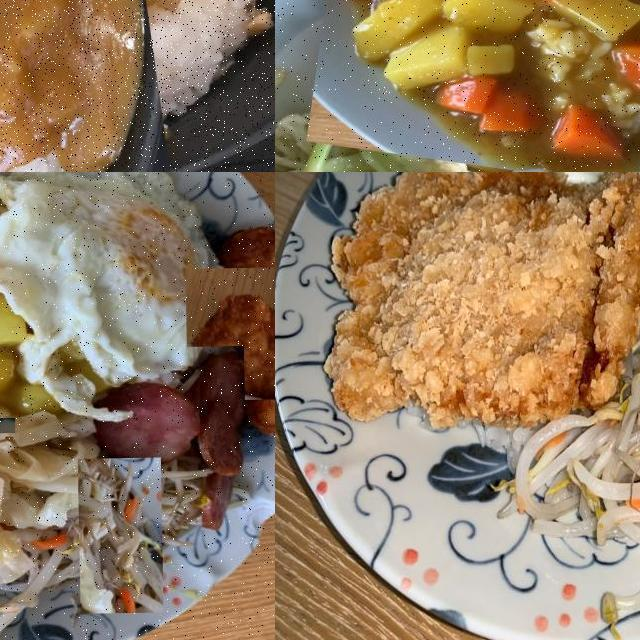chinese_cabbage: (0, 418, 144, 580)
chinese_sausage: (99, 346, 246, 480)
curry: (305, 0, 640, 172), (0, 0, 252, 172), (0, 180, 126, 433)
fried_chicken: (320, 172, 640, 423)
fried_eggs: (0, 172, 226, 418), (441, 172, 640, 233)
mung_bean_sprouts: (555, 301, 640, 547), (59, 474, 181, 595)
triangle_hash_brown: (204, 245, 275, 420)
